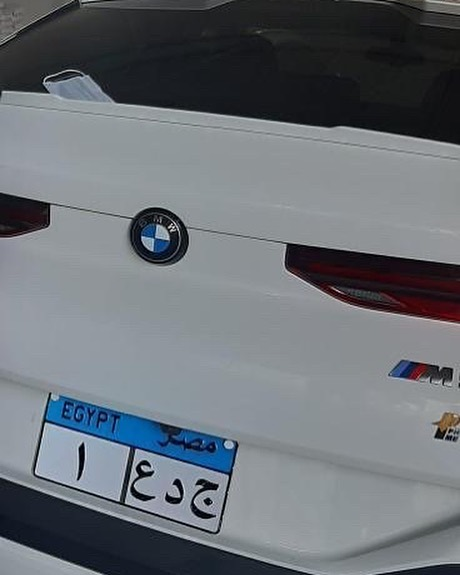carpl: (39, 392, 236, 536)
